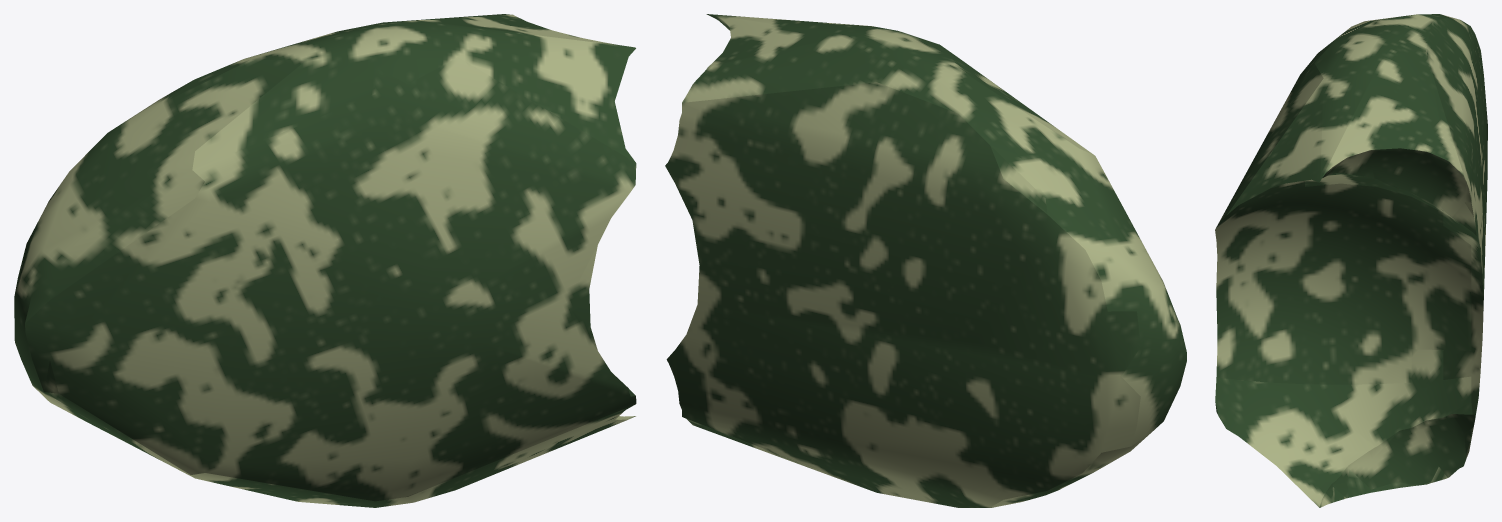
File: link_body_00_composite.obj
3 views of the same model, side by side, from view 1: azimuth 30°, elevation 25°; view 2: azimuth 150°, elevation 25°; view 3: azimuth 270°, elevation 25° (orthographic). The views are drawn at different scales.
Visible parts, largest first — view 1: link_body_00; view 2: link_body_00; view 3: link_body_00.
Part boxes in pixels (bbox=[...]): link_body_00: bbox=[14, 14, 636, 507]; link_body_00: bbox=[665, 14, 1186, 507]; link_body_00: bbox=[1215, 14, 1487, 507].
Size of the model in its own units: 20.52 by 16.44 by 9.84.
1 material, 1 textured.
